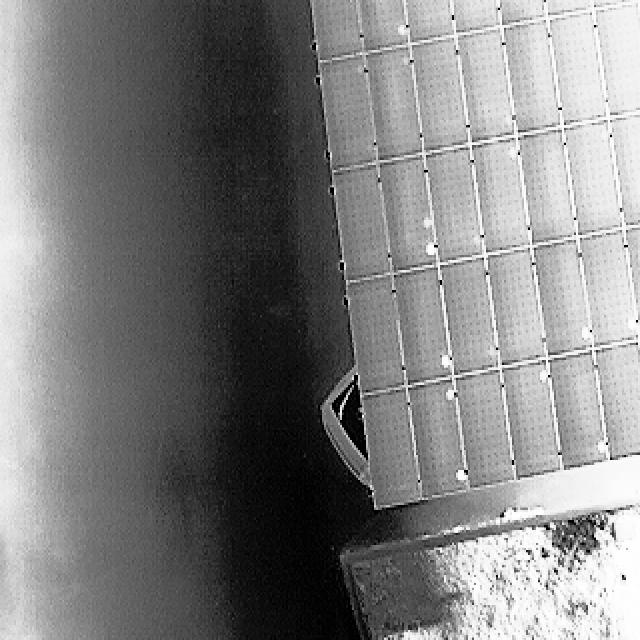Hotspots: (572, 317, 592, 344), (437, 350, 454, 372), (622, 317, 640, 335), (422, 242, 438, 260), (442, 387, 457, 405), (452, 466, 467, 484), (596, 439, 610, 458), (538, 366, 550, 388), (395, 21, 410, 38)
PV-modules: (453, 368, 517, 492), (423, 147, 489, 266), (360, 384, 422, 510), (332, 165, 394, 289), (486, 247, 549, 369), (472, 137, 533, 260), (549, 348, 612, 467), (441, 256, 502, 378), (409, 378, 469, 502), (409, 34, 471, 154), (502, 360, 564, 480), (533, 239, 595, 359), (563, 119, 625, 239), (503, 18, 564, 139), (579, 229, 640, 349), (457, 26, 518, 145), (347, 276, 408, 393), (518, 129, 579, 246), (395, 266, 454, 386), (380, 157, 440, 275), (549, 9, 609, 127), (366, 44, 425, 163), (320, 55, 378, 170), (595, 337, 640, 457), (595, 1, 640, 119), (309, 0, 367, 64), (609, 114, 640, 227), (356, 0, 412, 55), (403, 0, 458, 47), (447, 0, 503, 39), (624, 227, 640, 327), (496, 0, 549, 30), (640, 2, 640, 3)
